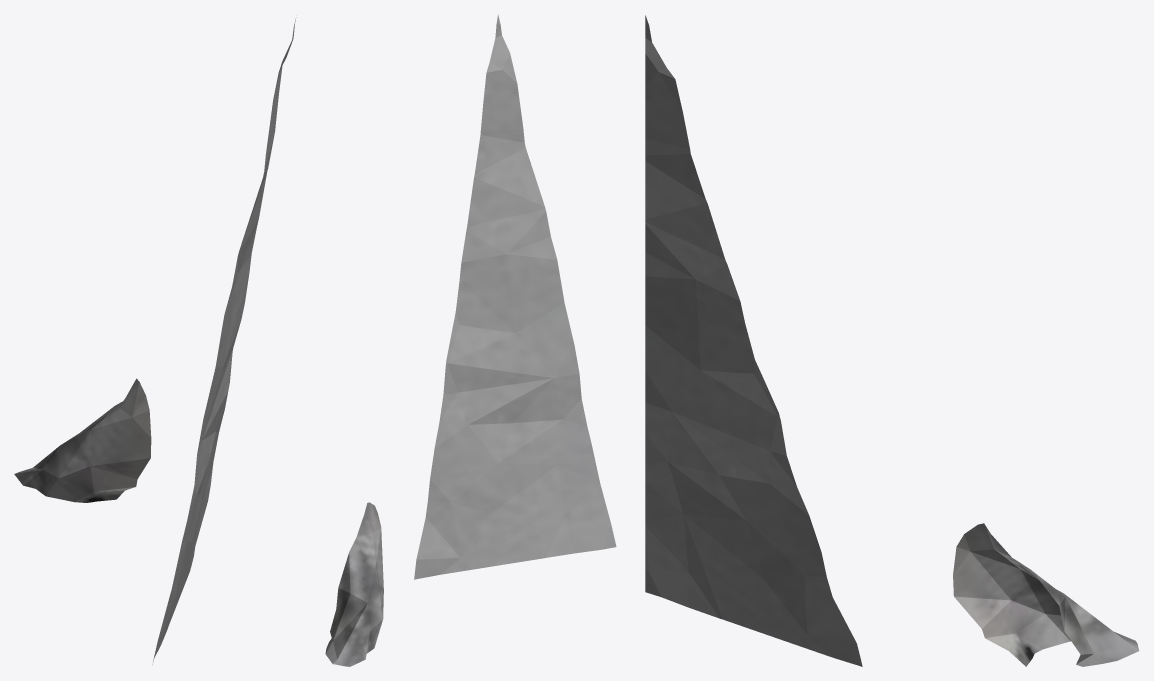
The picture shows the model from 3 angles, left to right: view 1: azimuth 30°, elevation 25°; view 2: azimuth 150°, elevation 25°; view 3: azimuth 270°, elevation 25°; orthographic projection. The views are drawn at different scales.
Size of the model in its own units: 0.0991 by 0.403 by 0.2767.
Materials: 1 (1 with a texture image).
